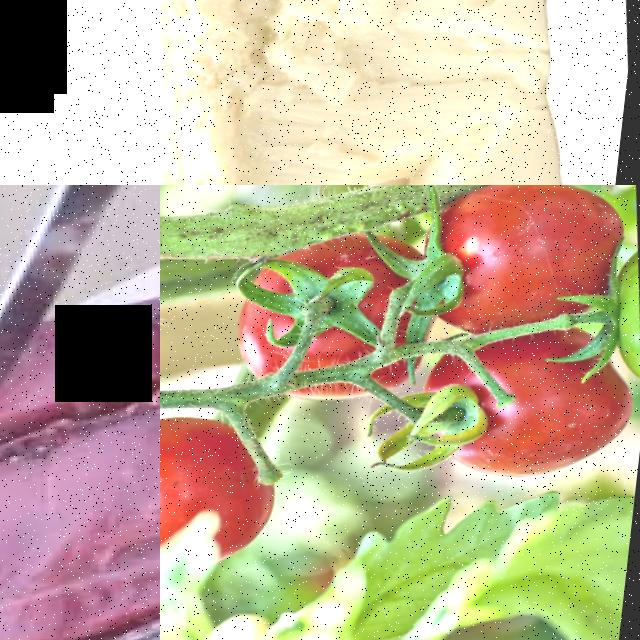tofu: (160, 0, 622, 185)
tomato: (402, 185, 637, 338), (160, 396, 301, 593)
tuna: (18, 396, 160, 564), (25, 290, 160, 416)
